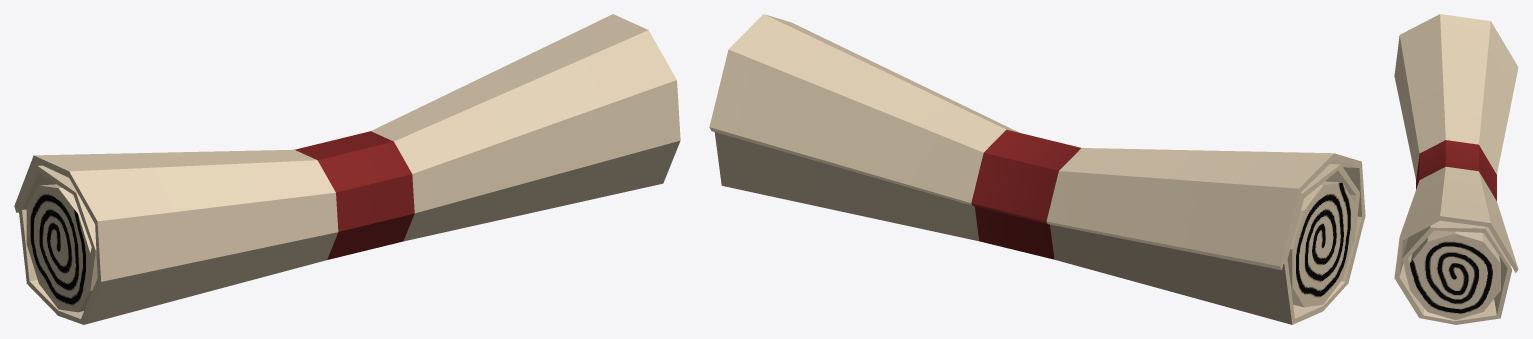
The model's file is ScrollDecoration (1).fbx.
3 renders of one model, left to right at view 1: azimuth 30°, elevation 25°; view 2: azimuth 150°, elevation 25°; view 3: azimuth 270°, elevation 25°, orthographic. The views are drawn at different scales.
Visible parts, largest first — view 1: Scroll; view 2: Scroll; view 3: Scroll.
Part boxes in pixels (<box>): Scroll: <box>14,14,680,324</box>; Scroll: <box>709,14,1365,324</box>; Scroll: <box>1394,14,1518,324</box>.
Size of the model in its own units: 1.07 by 0.2693 by 0.278.
1 material, 1 textured.
